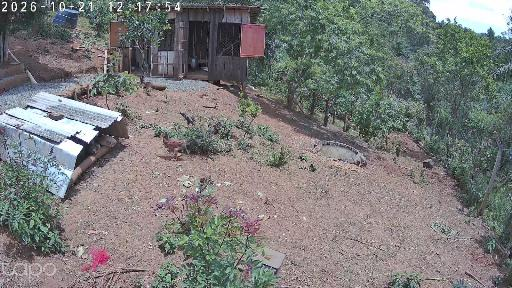frango: (179, 112, 198, 128)
galinha: (159, 131, 188, 163), (97, 133, 117, 148)
pato: (201, 65, 210, 73)
